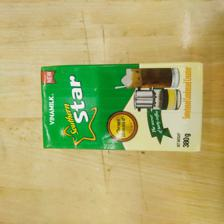NSPN_Hop: (39, 61, 204, 153)
